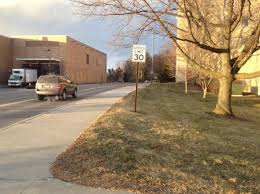speedLimit30: (132, 42, 146, 63)
